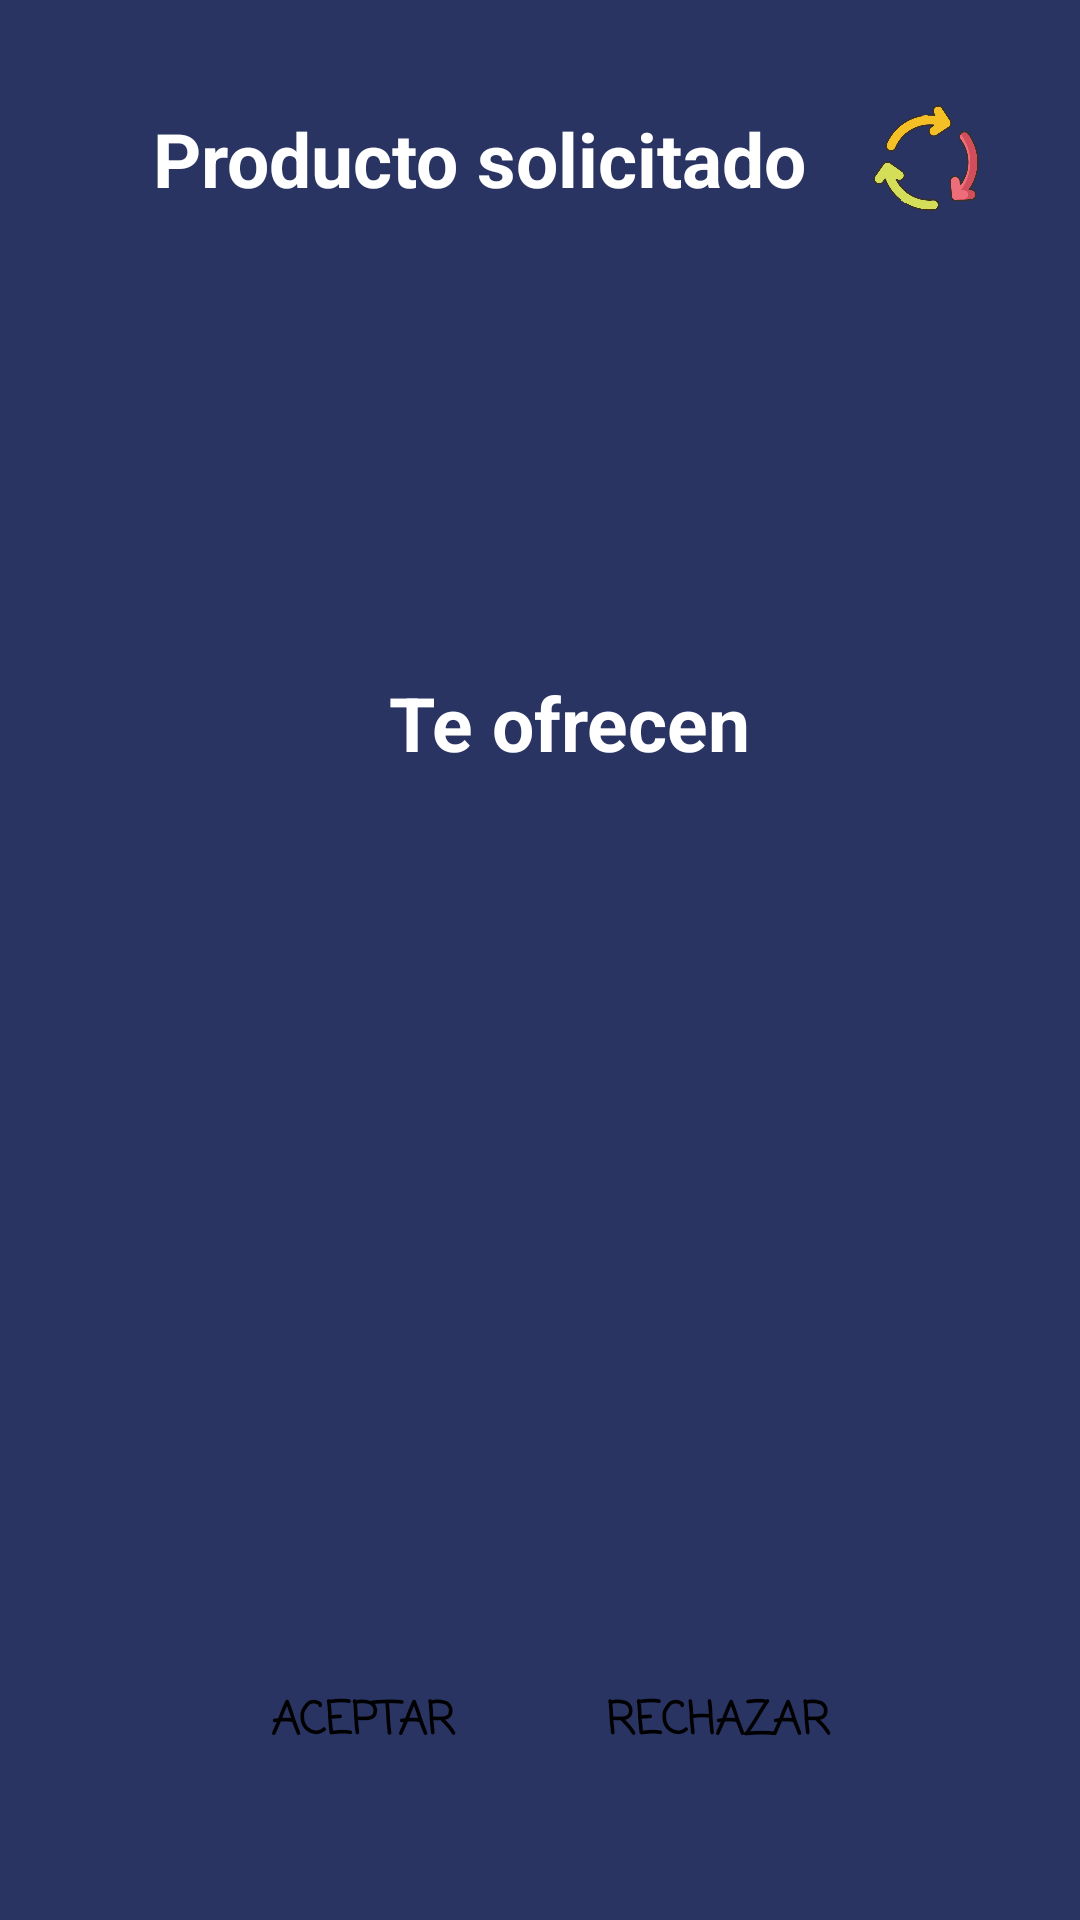

Screen size 1080x1920. Icon name, then its center in pixels as point (x, y):
cycle: point (926, 158)
